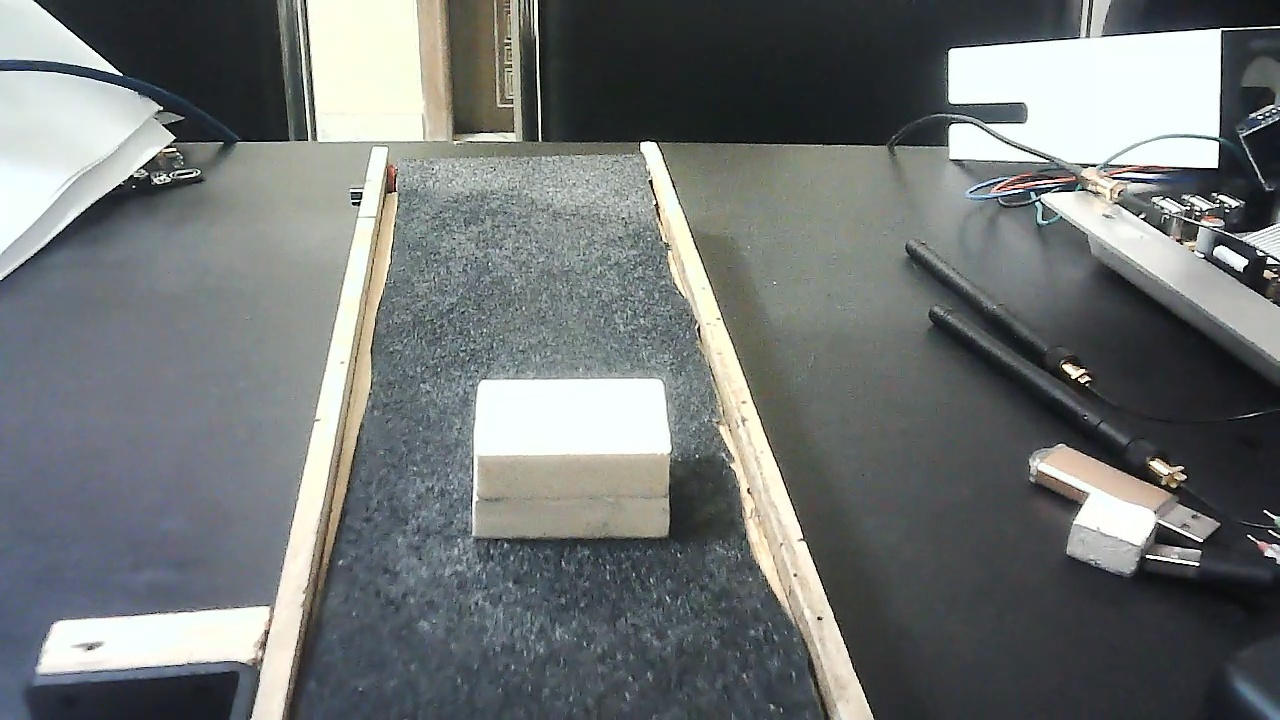BIG: (473, 359, 668, 554)
